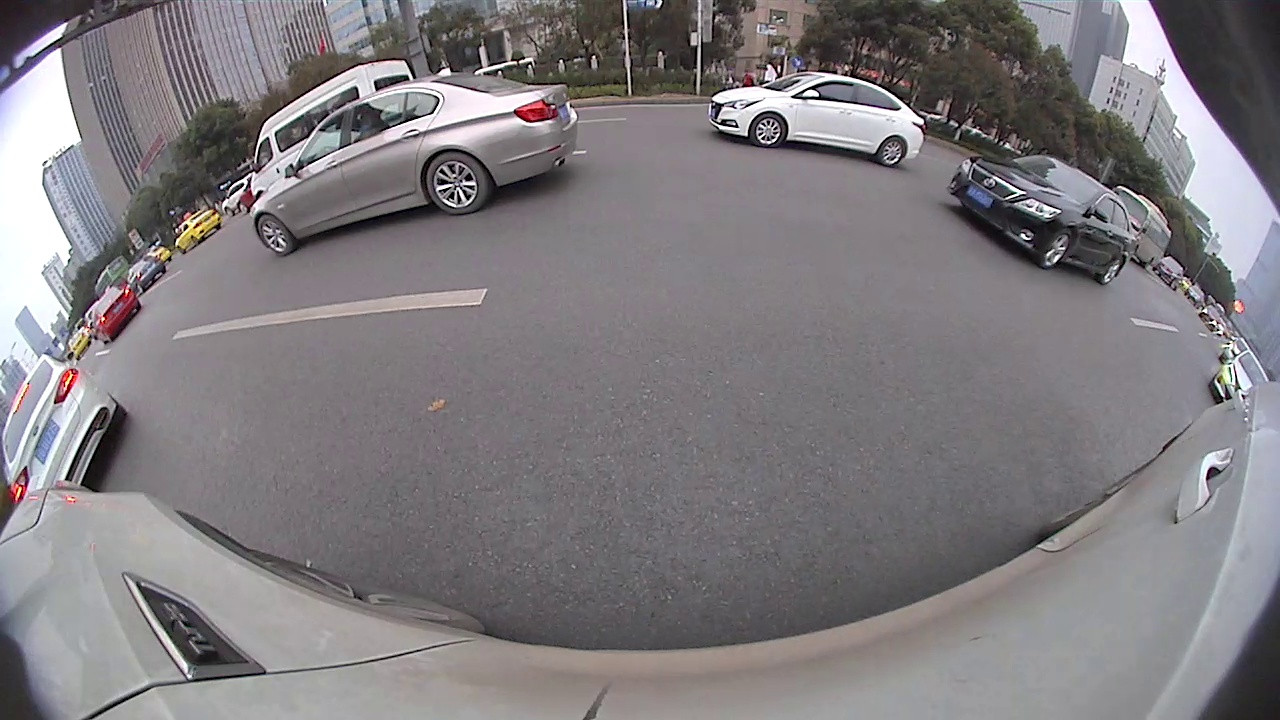car: (251, 76, 577, 256), (247, 56, 412, 200), (948, 157, 1133, 283), (708, 74, 925, 168), (4, 356, 121, 497), (1208, 348, 1272, 402), (87, 287, 145, 343)
front: (1035, 228, 1077, 270), (257, 212, 295, 254), (751, 111, 785, 148)
rear: (423, 152, 491, 214), (879, 138, 906, 166), (1101, 254, 1127, 283)
